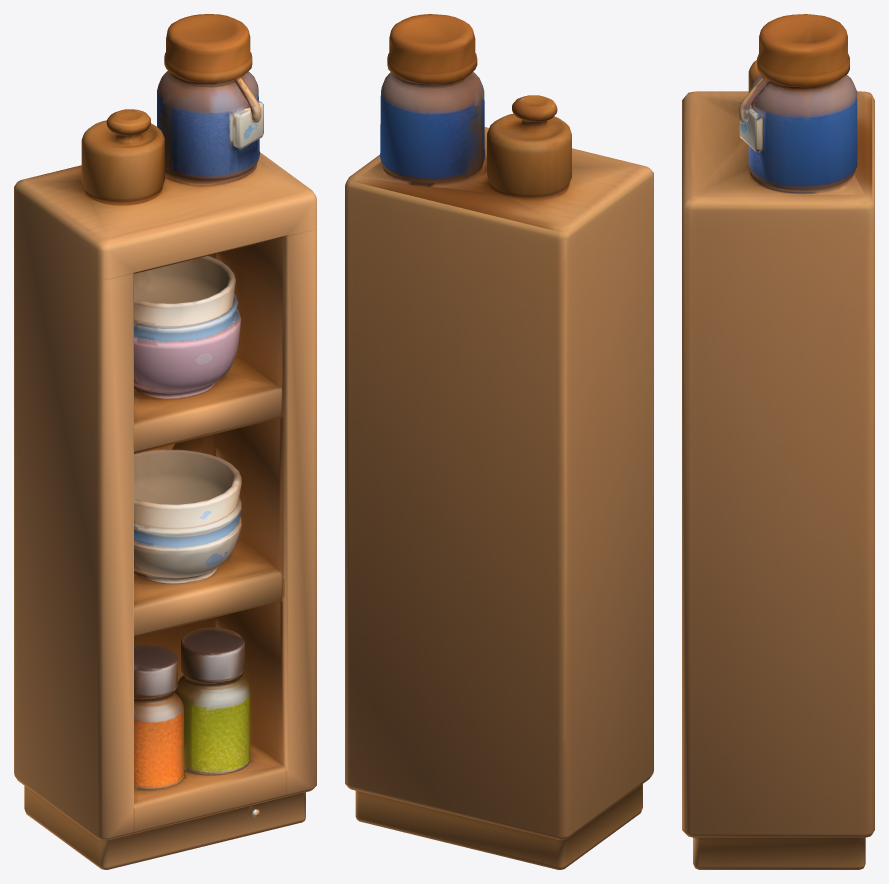
File: open-cubby.glb
The picture shows the model from 3 angles, left to right: view 1: azimuth 30°, elevation 25°; view 2: azimuth 150°, elevation 25°; view 3: azimuth 270°, elevation 25°; orthographic projection. The views are drawn at different scales.
Parts seen in each view (by area): view 1: open_cubby_mesh; view 2: open_cubby_mesh; view 3: open_cubby_mesh.
Part boxes in pixels (left/top/right/bottom): open_cubby_mesh: left=14, top=14, right=316, bottom=869; open_cubby_mesh: left=345, top=14, right=653, bottom=869; open_cubby_mesh: left=682, top=14, right=874, bottom=869.
Bounding box in the file's own units: 0.22 × 0.7374 × 0.1578.
Materials: 1 (1 with a texture image).
